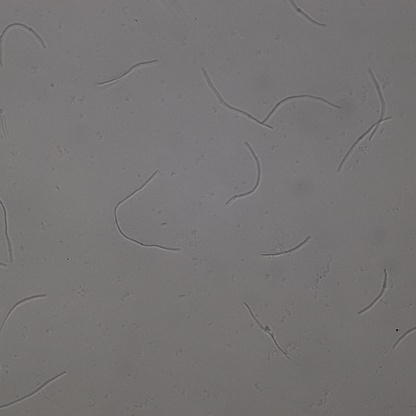Sensitive: (113, 169, 181, 252), (201, 68, 272, 132), (339, 116, 391, 170), (244, 302, 291, 360), (1, 370, 67, 410), (263, 91, 341, 123), (225, 140, 262, 204), (98, 57, 159, 86), (1, 294, 45, 332), (1, 20, 47, 51), (367, 67, 386, 142), (358, 267, 388, 313), (262, 235, 310, 258), (289, 1, 327, 27), (1, 201, 12, 261)
